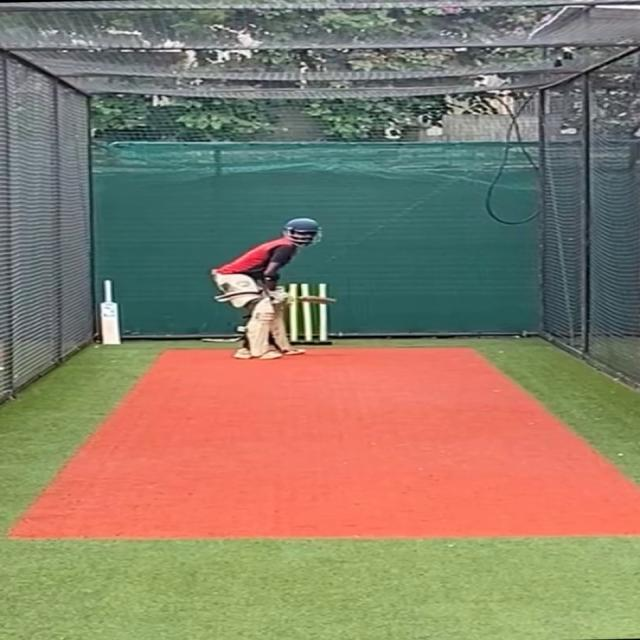stump: (286, 278, 333, 346)
